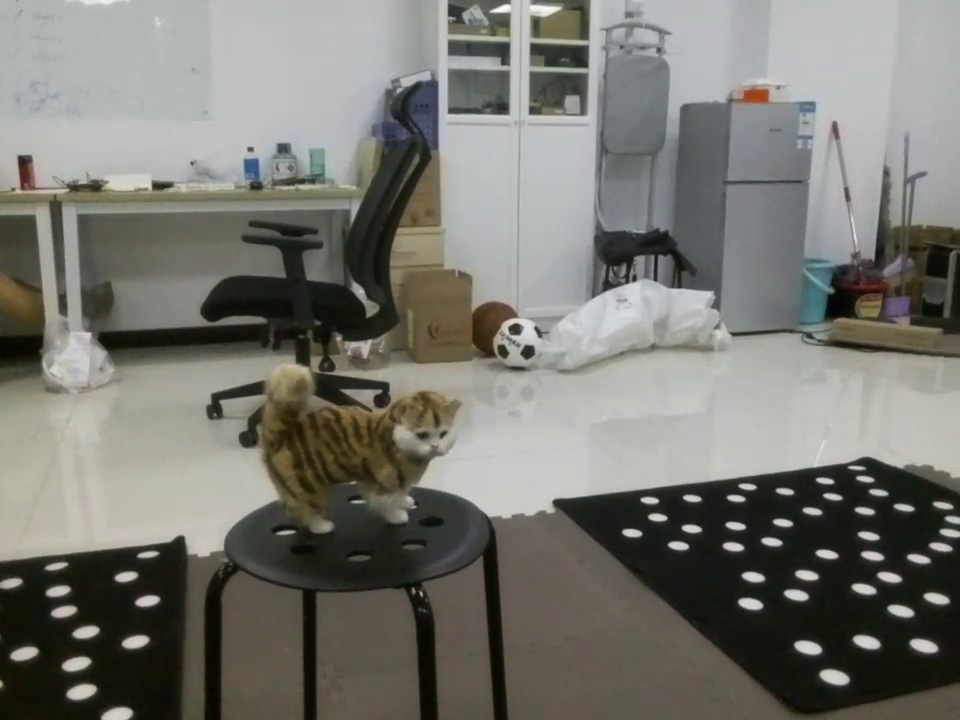cat: (240, 358, 476, 535)
